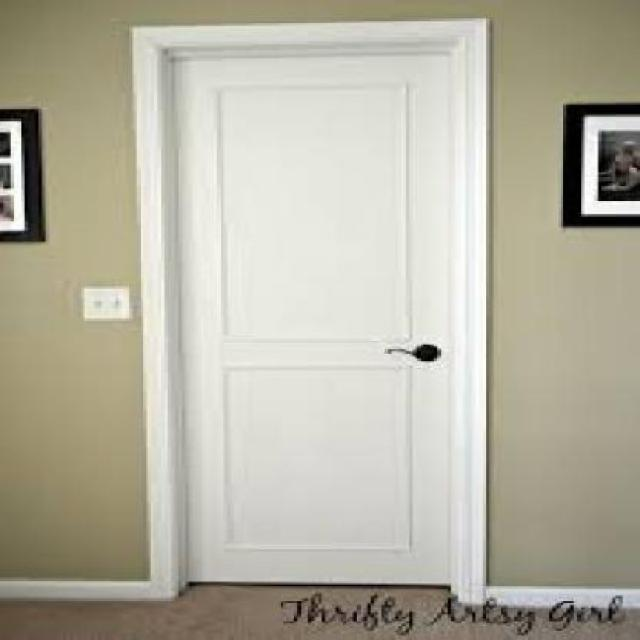door: (131, 16, 490, 602)
